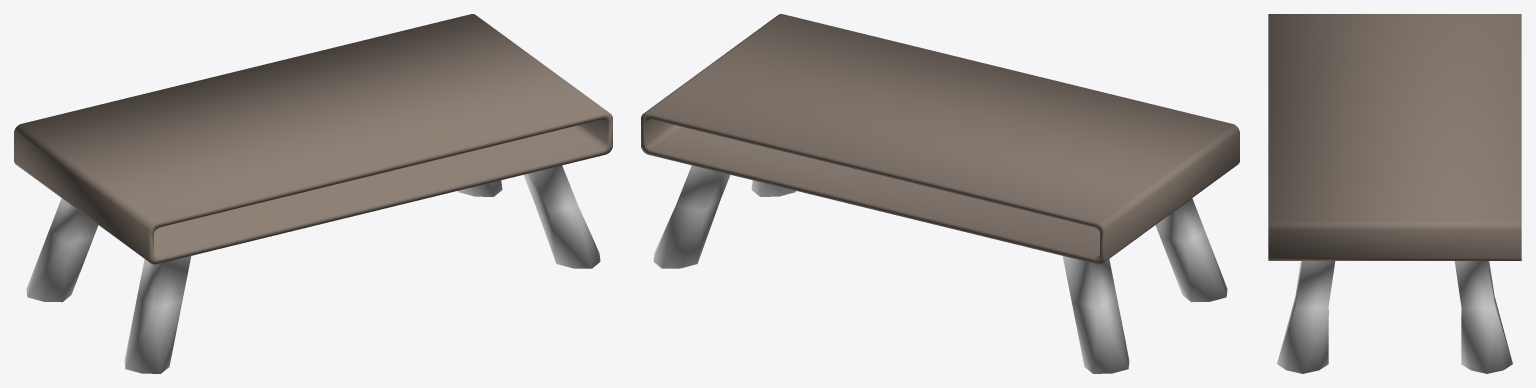
Rendered from Coffee Table.fbx.
The picture shows the model from 3 angles, left to right: view 1: azimuth 30°, elevation 25°; view 2: azimuth 150°, elevation 25°; view 3: azimuth 270°, elevation 25°; orthographic projection. The views are drawn at different scales.
Parts seen in each view (by area): view 1: Table; view 2: Table; view 3: Table.
Boxes of the visible parts, x1=… form: Table: x1=14, y1=14, x2=612, y2=373; Table: x1=641, y1=14, x2=1239, y2=373; Table: x1=1268, y1=14, x2=1521, y2=373.
Bounding box in the file's own units: 254 × 80.43 × 125.
